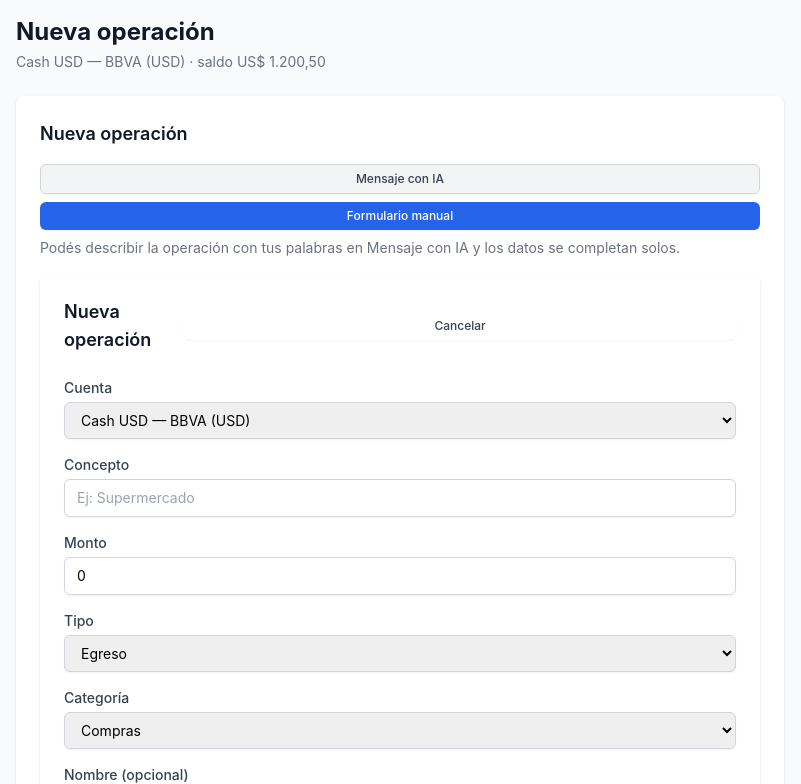
Test: NewOperationPage (tabs IA / manual) › creates a manual operation, redirects to the dashboard and updates the balance chip
In the field labelled "Concepto": (400, 498) [64,479,736,517], type "Gimnasio"
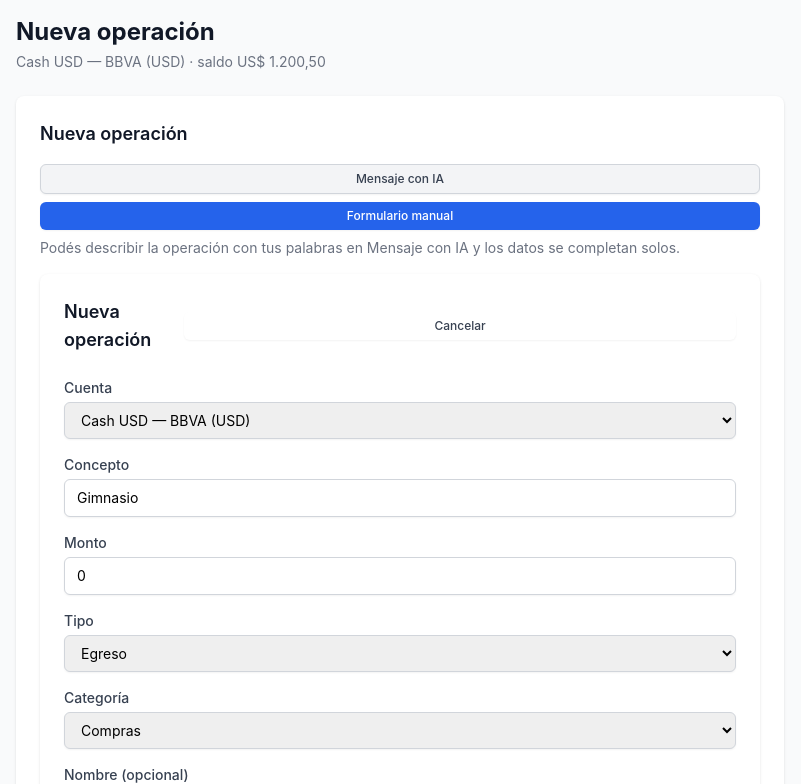
Replace the text in the number field labelled "Monto" with "150": (400, 576) [64,557,736,595]
(page scrolled)
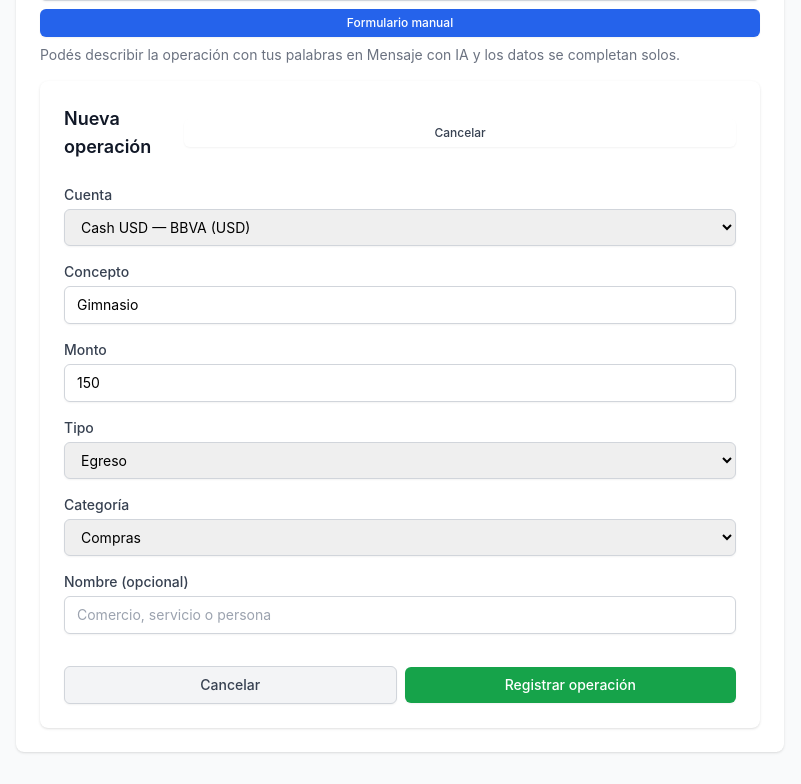
In the field labelled "Nombre (opcional)": (400, 615) [64,596,736,634], type "Gym Plus"
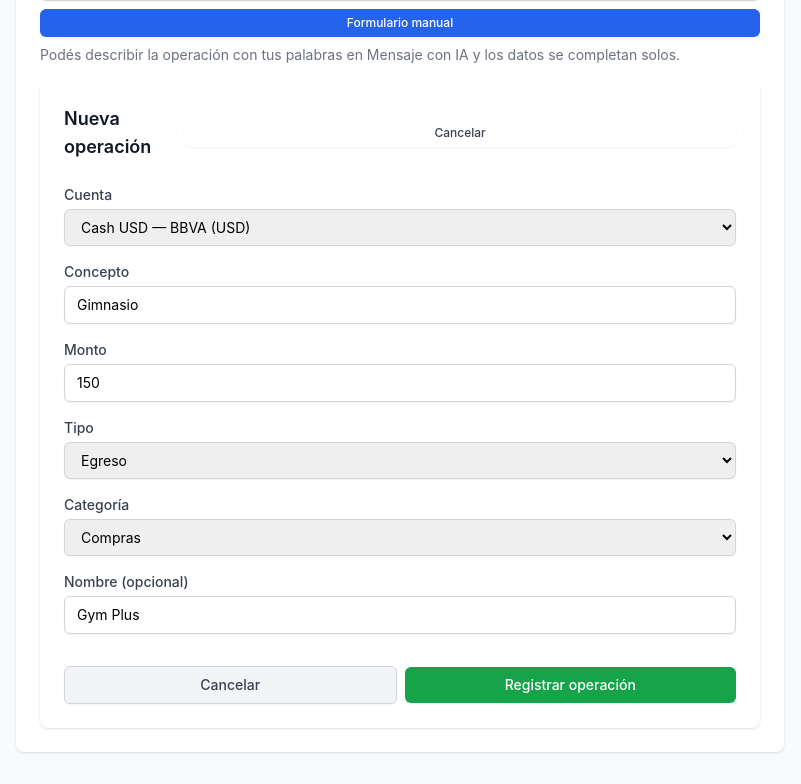
Click the button "Registrar operación": (570, 685) [404,667,736,703]
(page scrolled)
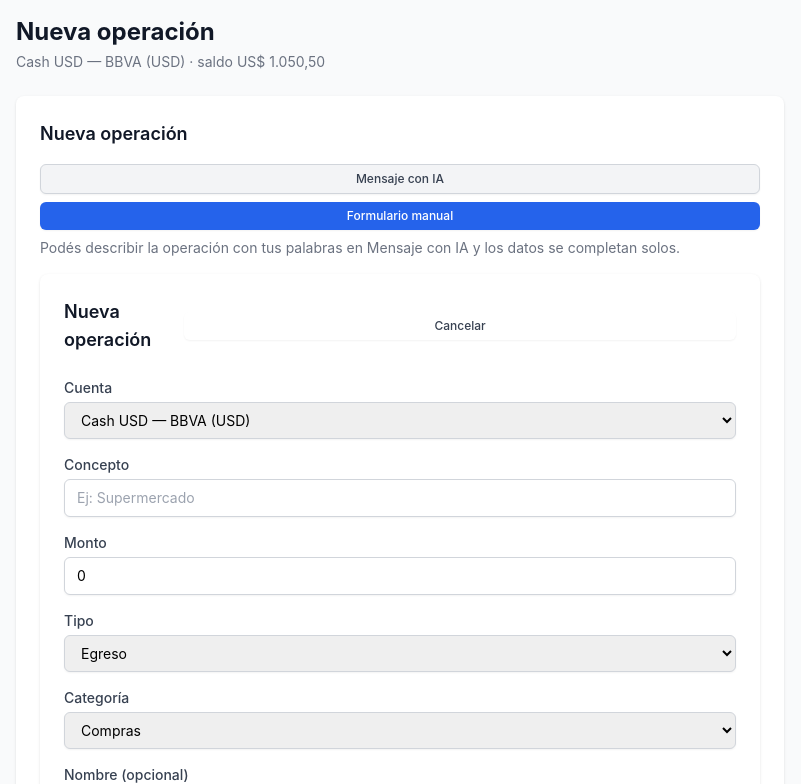
Result: the text "Cash USD — BBVA (USD) · saldo US$ 1.050,50" is shown at [16,52,325,72]
